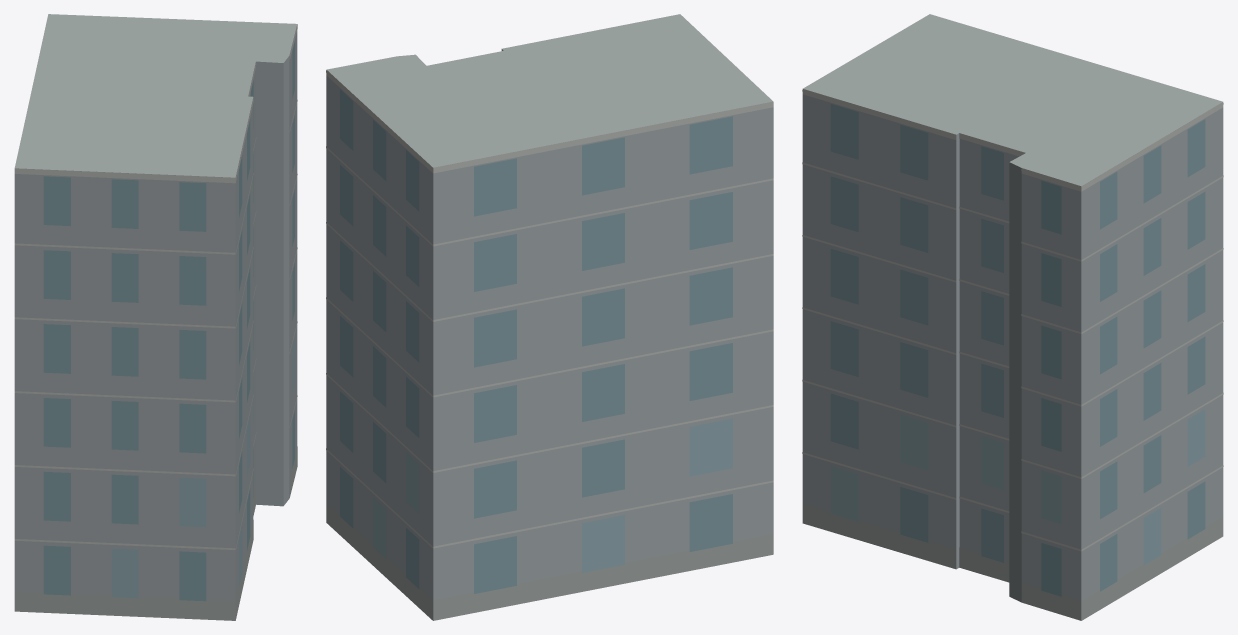
File: survey-upis-32768384.glb
The picture shows the model from 3 angles, left to right: view 1: azimuth 30°, elevation 25°; view 2: azimuth 150°, elevation 25°; view 3: azimuth 270°, elevation 25°; orthographic projection. The views are drawn at different scales.
Parts seen in each view (by area): view 1: survey-upis-32768384.tmp; view 2: survey-upis-32768384.tmp; view 3: survey-upis-32768384.tmp.
Boxes of the visible parts, x1=… form: survey-upis-32768384.tmp: x1=14, y1=14, x2=297, y2=620; survey-upis-32768384.tmp: x1=326, y1=14, x2=773, y2=620; survey-upis-32768384.tmp: x1=802, y1=14, x2=1223, y2=620.
Bounding box in the file's own units: 16.34 × 19.2 × 16.86.
